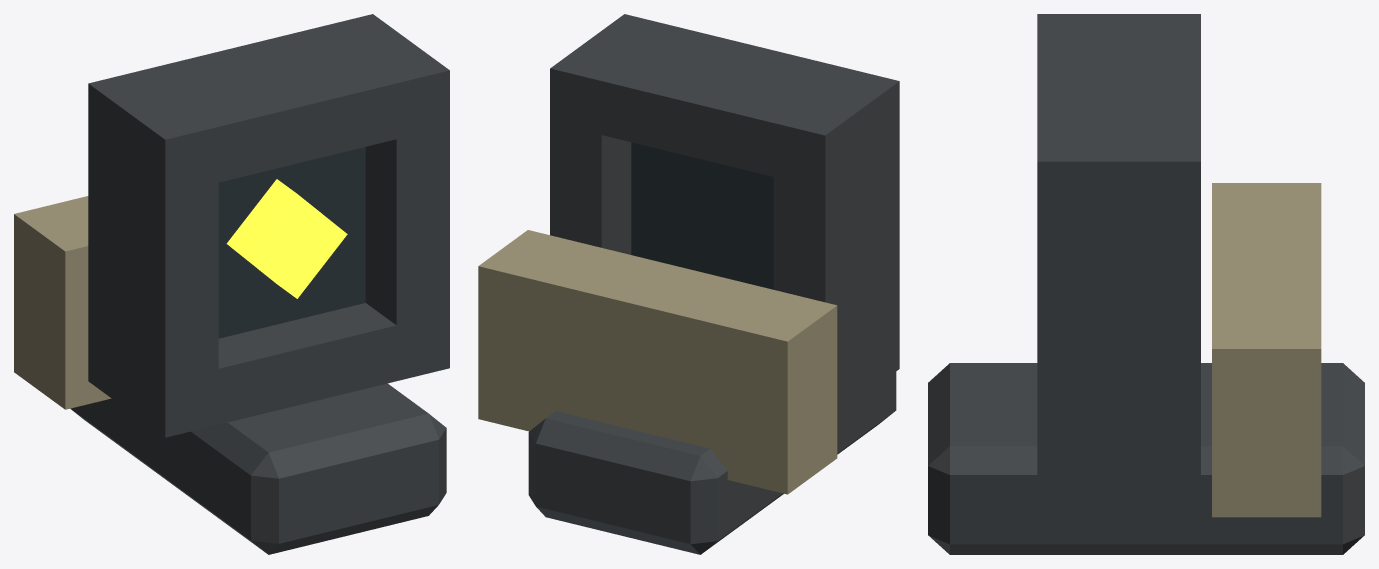
File: mod_sight_reflex.glb
3 renders of one model, left to right at view 1: azimuth 30°, elevation 25°; view 2: azimuth 150°, elevation 25°; view 3: azimuth 270°, elevation 25°, orthographic. The views are drawn at different scales.
Visible parts, largest first — view 1: sight_reflex; view 2: sight_reflex; view 3: sight_reflex.
Part boxes in pixels (x1=…): sight_reflex: x1=14, y1=14, x2=449, y2=554; sight_reflex: x1=478, y1=14, x2=899, y2=554; sight_reflex: x1=928, y1=14, x2=1364, y2=554.
Bounding box in the file's own units: 0.072 × 0.086 × 0.08.
